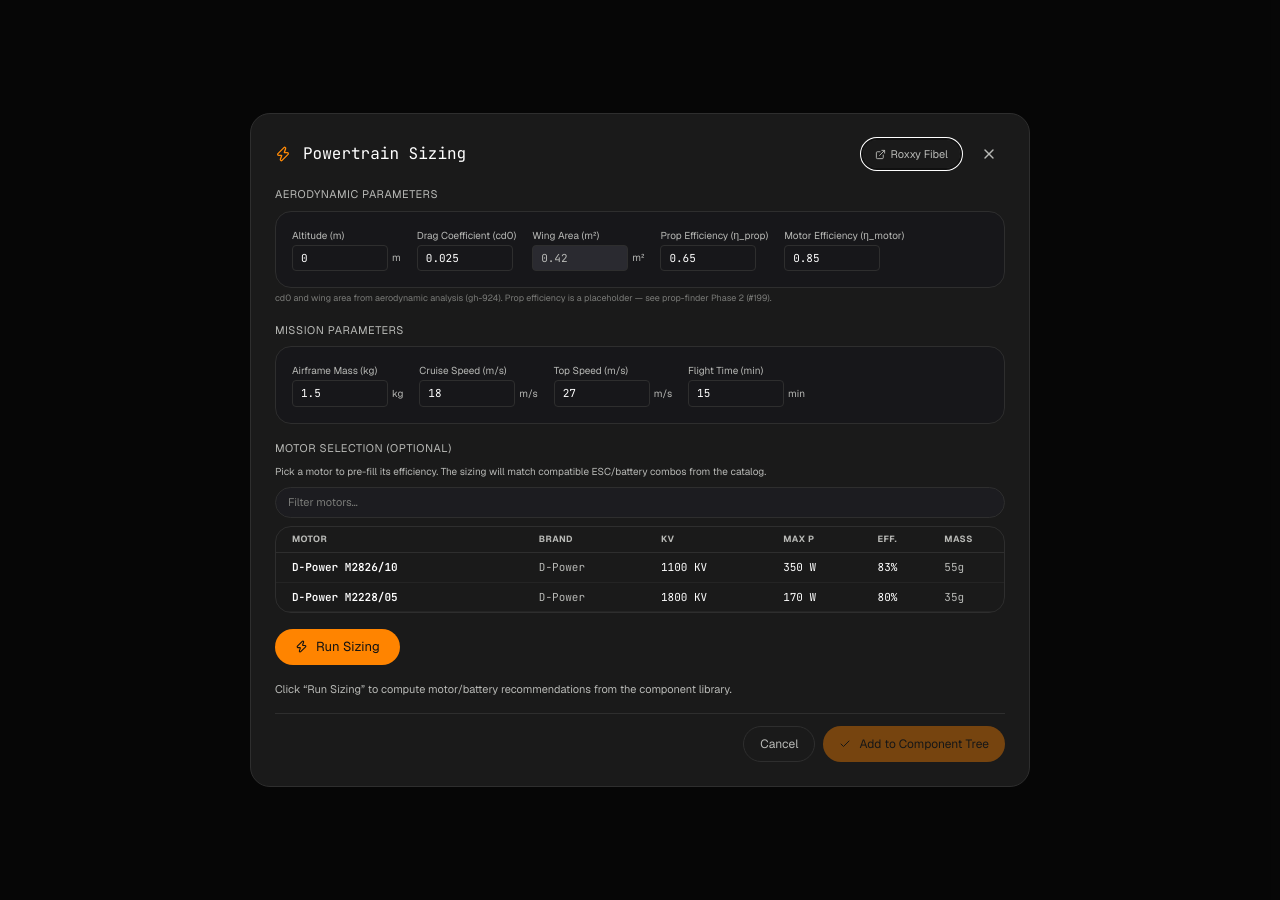
PowertrainSizingModal › filters motors by search
The image size is (1280, 900).
In the field with test id "motor-search": [640, 502] box [288,494,992,510], type "M2826"
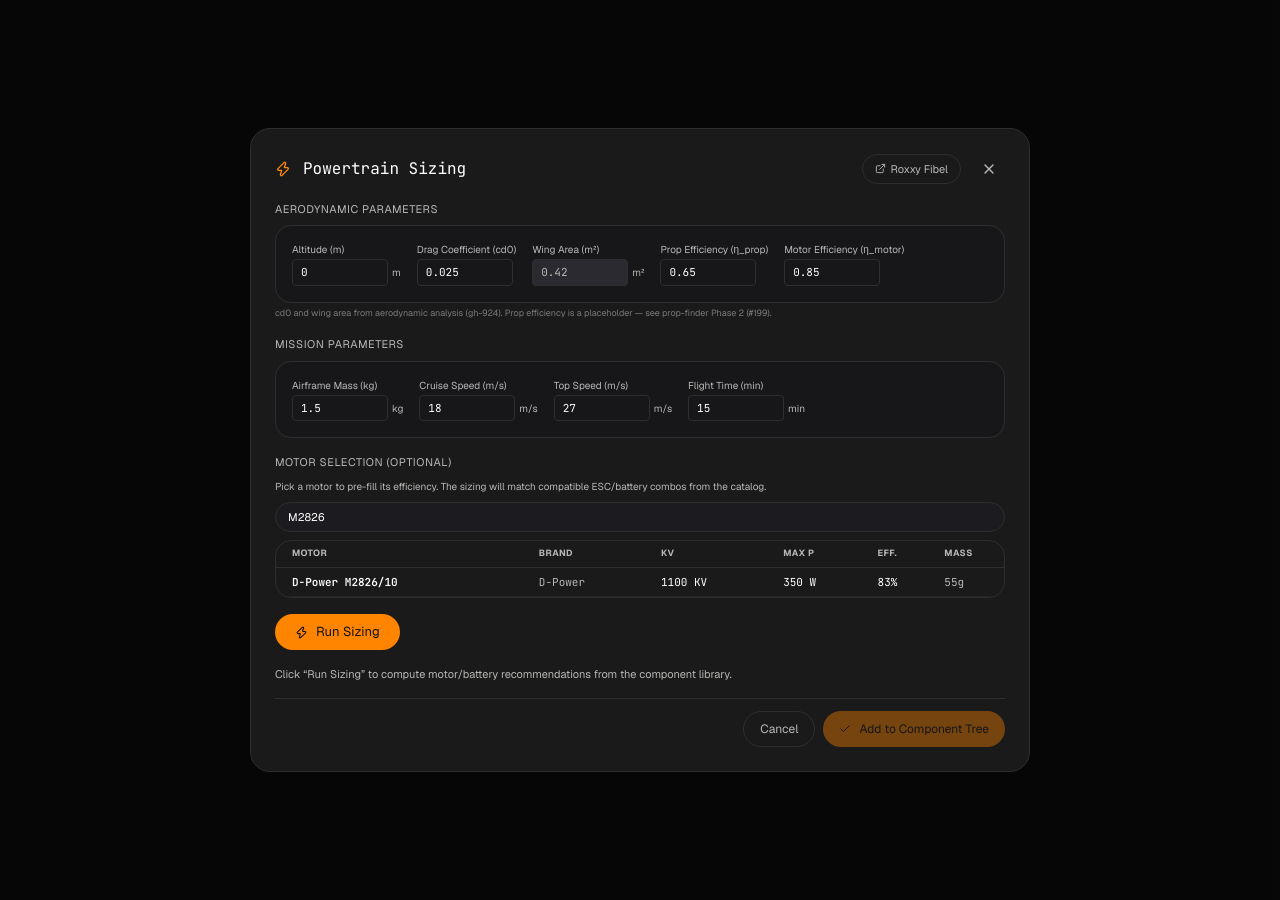
Expected: the row with test id "motor-row-1" is shown, [276,567,1004,597]
Now the row with test id "motor-row-2" is gone
